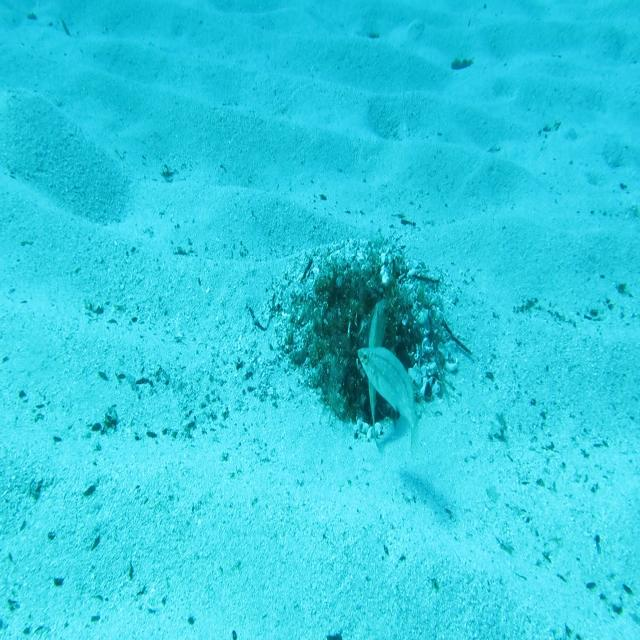FAN: (364, 296, 390, 457)
core_nest: (336, 284, 378, 310)
female: (356, 344, 421, 464)
nest: (269, 227, 467, 458)
vegetation: (448, 54, 477, 73)
